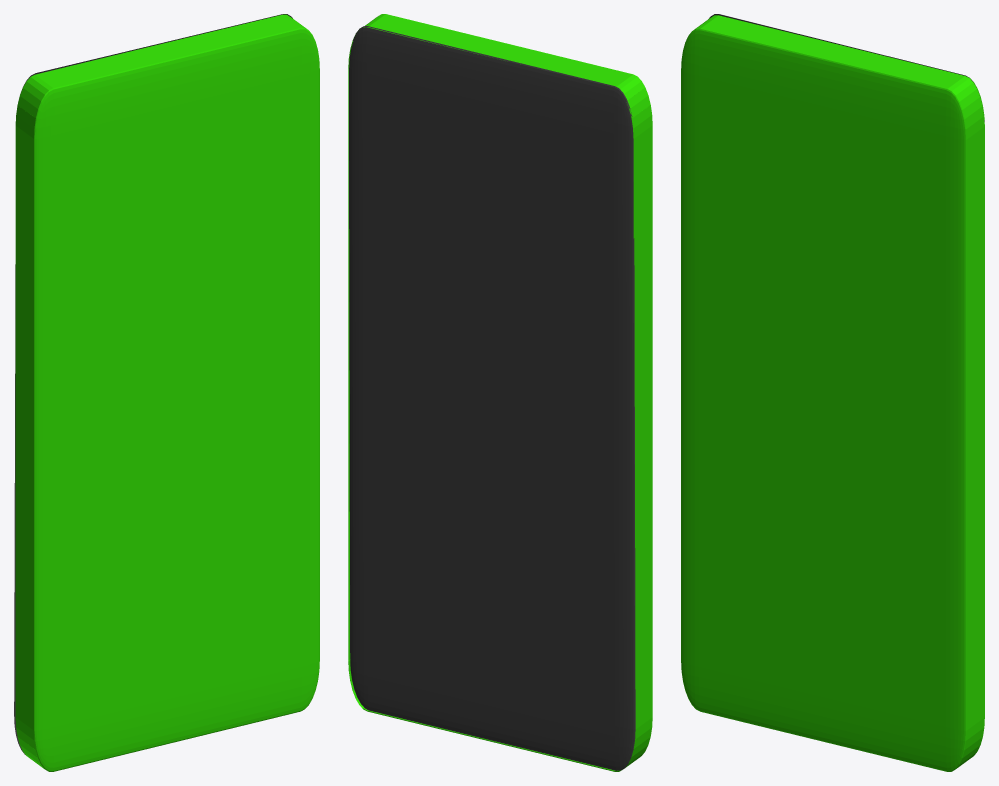
The model's file is phoneGreen.fbx.
3 views of the same model, side by side, from view 1: azimuth 30°, elevation 25°; view 2: azimuth 150°, elevation 25°; view 3: azimuth 330°, elevation 25° (orthographic).
Visible parts, largest first — view 1: Куб, Куб.001; view 2: Куб.001, Куб; view 3: Куб.
Boxes of the visible parts, x1=… form: Куб: x1=15, y1=14, x2=319, y2=771; Куб.001: x1=14, y1=14, x2=292, y2=754; Куб.001: x1=349, y1=26, x2=635, y2=770; Куб: x1=348, y1=14, x2=652, y2=771; Куб: x1=681, y1=15, x2=984, y2=771.
Size of the model in its own units: 7.04 by 16.04 by 0.9036.
